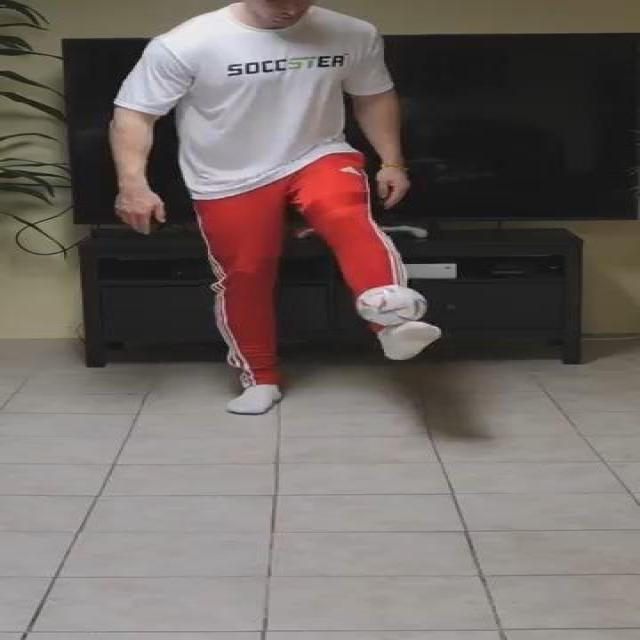Soccer Ball: (354, 282, 428, 326)
